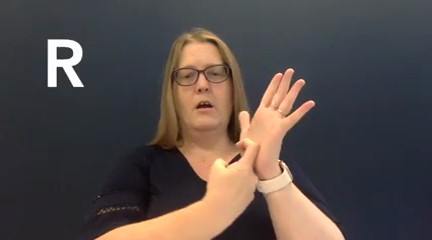R: (194, 64, 320, 224)
